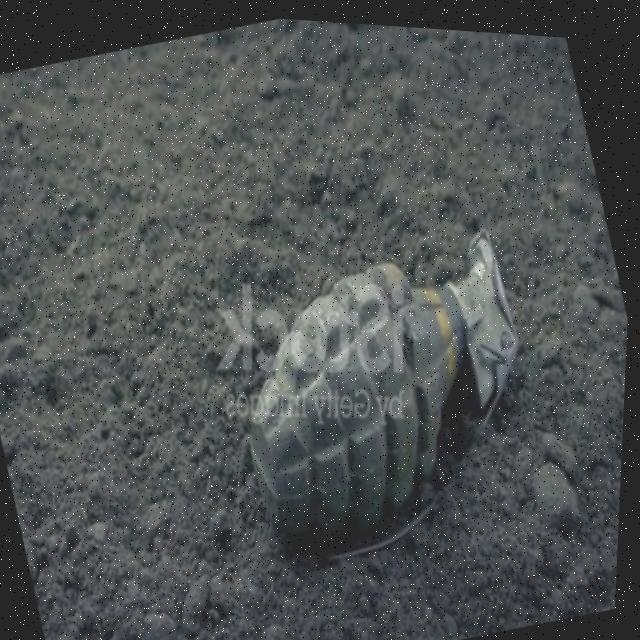grenade: (169, 142, 605, 629)
